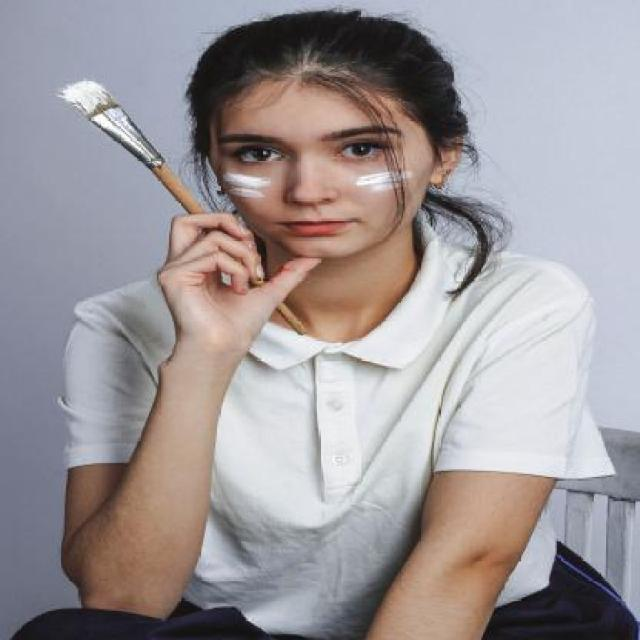closed-mouth: (280, 212, 363, 240)
